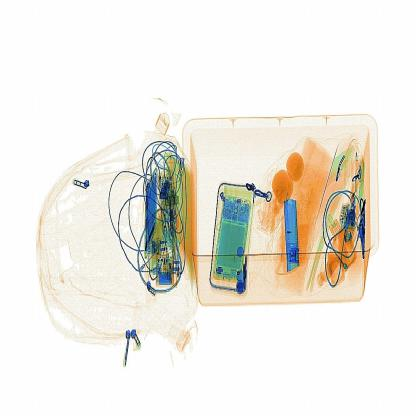pliers: (272, 188, 306, 284)
